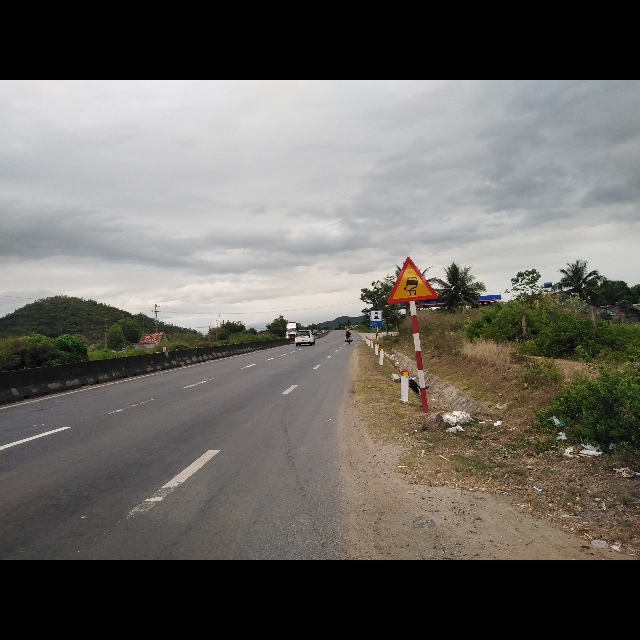Đường trơn trượt: (385, 255, 437, 305)
